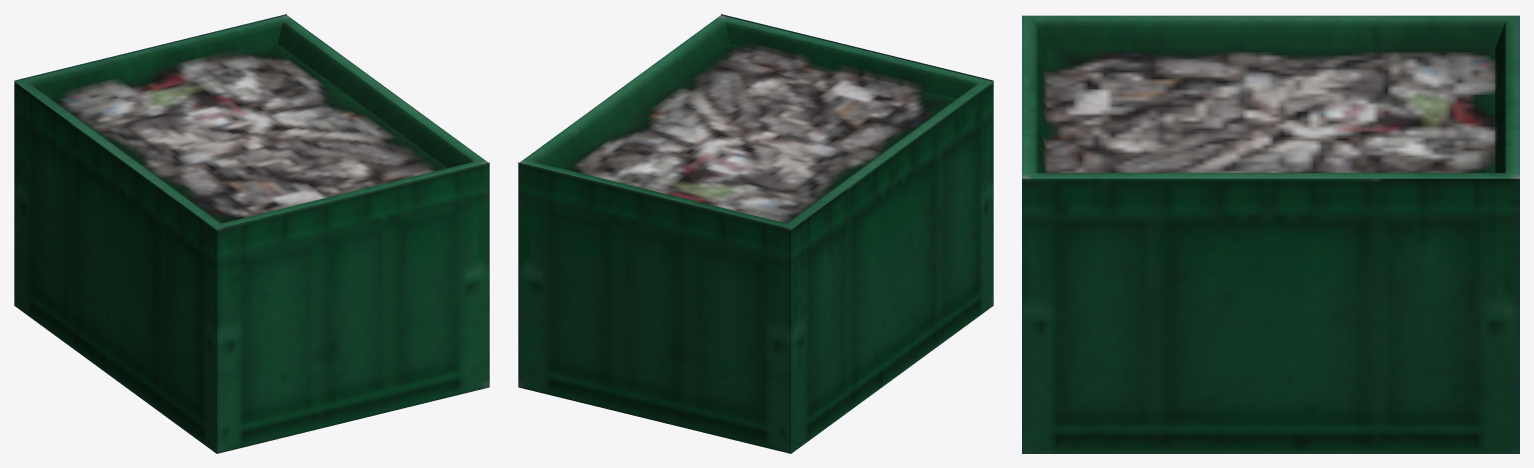
The model's file is green_crate1.glb.
3 views of the same model, side by side, from view 1: azimuth 30°, elevation 25°; view 2: azimuth 150°, elevation 25°; view 3: azimuth 270°, elevation 25° (orthographic). The views are drawn at different scales.
Visible parts, largest first — view 1: Crate04_Crates02_0; view 2: Crate04_Crates02_0; view 3: Crate04_Crates02_0.
Part boxes in pixels (<box>): Crate04_Crates02_0: <box>14,14,489,453</box>; Crate04_Crates02_0: <box>518,14,993,453</box>; Crate04_Crates02_0: <box>1022,15,1519,453</box>.
Bounding box in the file's own units: 0.4334 × 0.3416 × 0.5574.
1 material, 1 textured.
